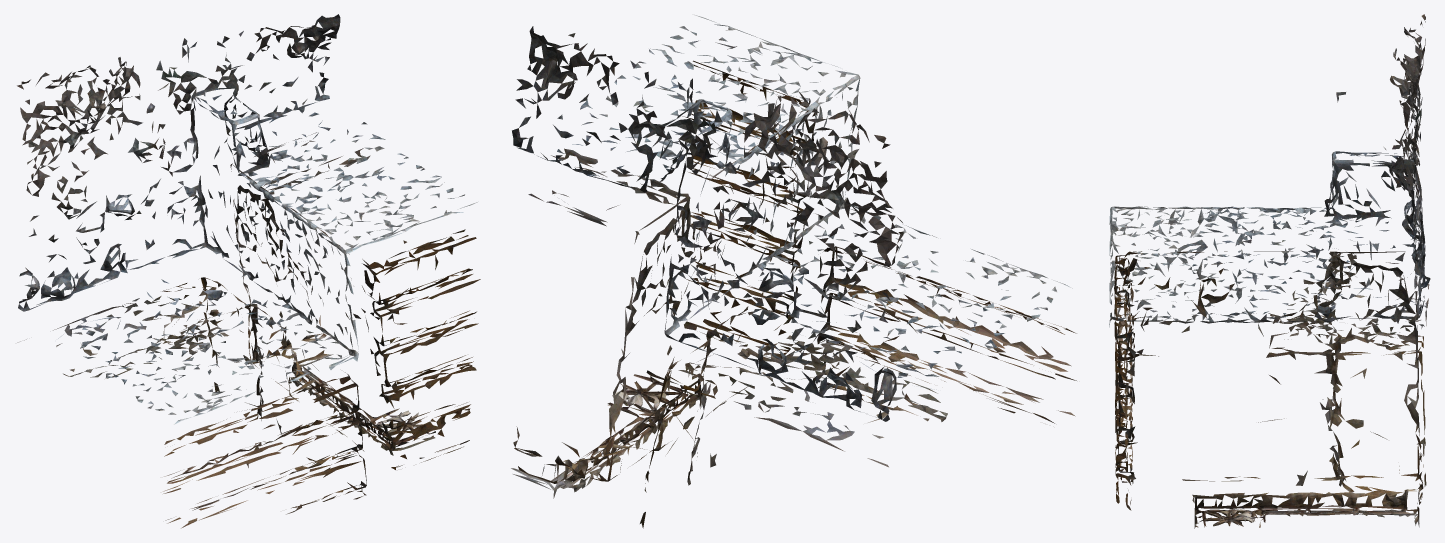
3 renders of one model, left to right at view 1: azimuth 30°, elevation 25°; view 2: azimuth 150°, elevation 25°; view 3: azimuth 270°, elevation 25°, orthographic. The views are drawn at different scales.
Bounding box in the file's own units: 6.43 × 7.09 × 5.38.
1 material, 1 textured.
